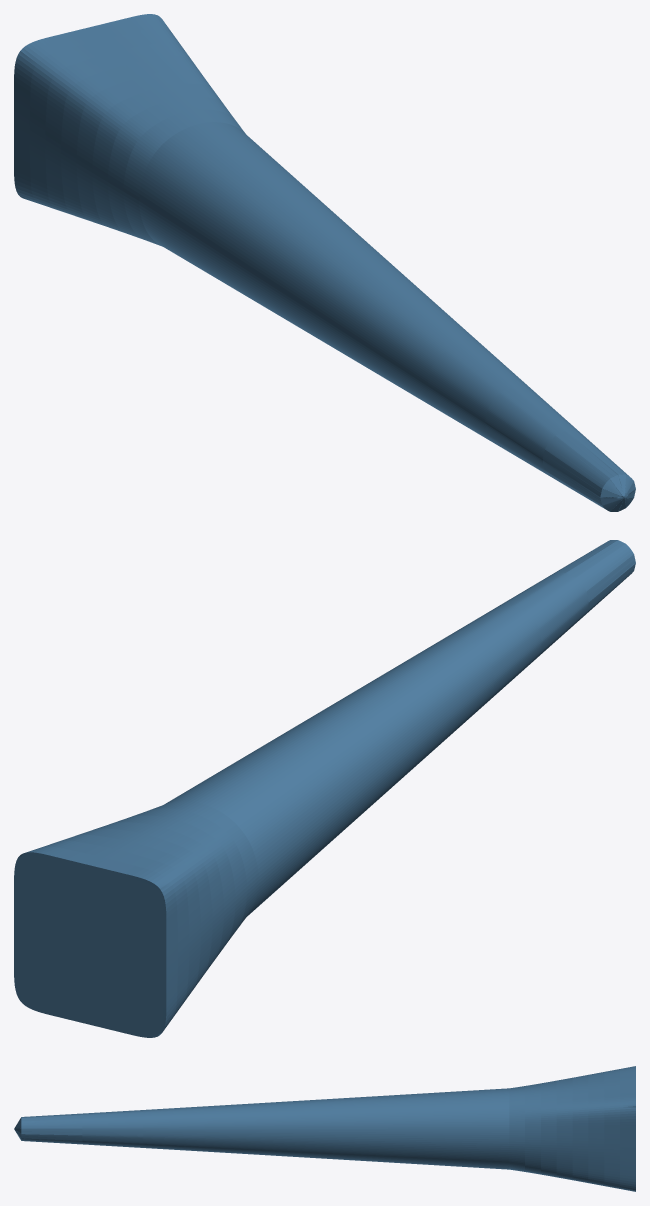
Rendered from mast.glb.
3 views of the same model, one above another, from view 1: azimuth 30°, elevation 25°; view 2: azimuth 150°, elevation 25°; view 3: azimuth 270°, elevation 25° (orthographic). The views are drawn at different scales.
Visible parts, largest first — view 1: mast and boomrest; view 2: mast and boomrest; view 3: mast and boomrest.
Boxes of the visible parts, x1,y1,x2,y2 form: mast and boomrest: [14, 14, 635, 511]; mast and boomrest: [14, 540, 635, 1037]; mast and boomrest: [14, 1066, 635, 1191].
Bounding box in the file's own units: 10 × 10 × 60.72.
